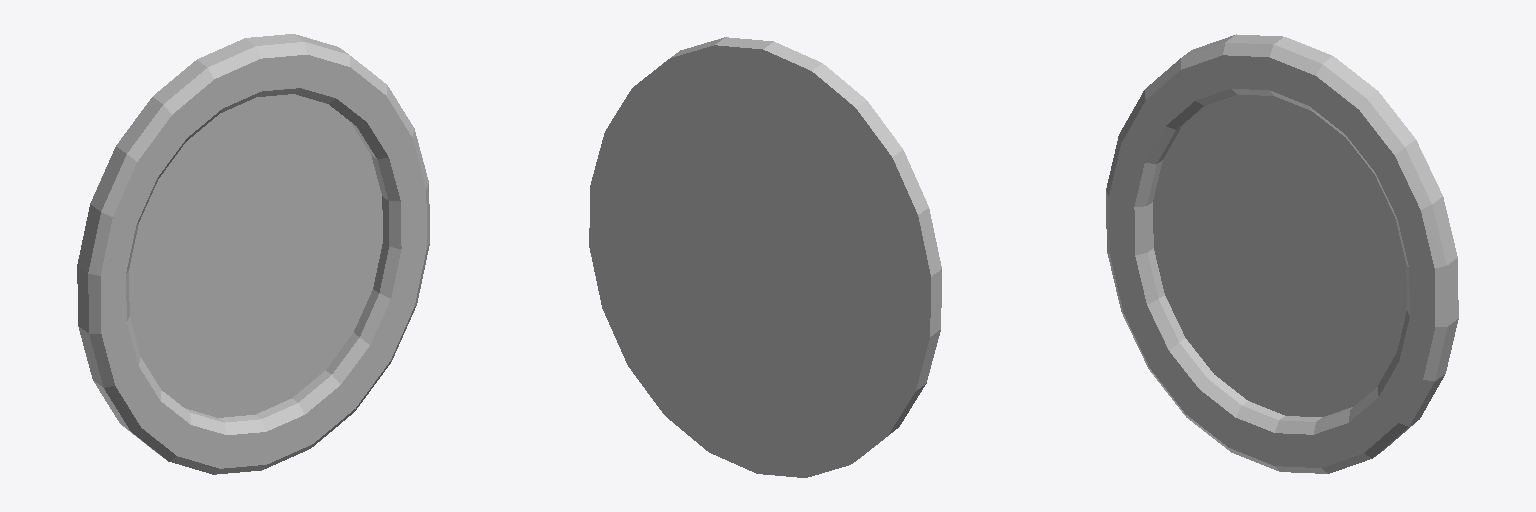
Rendered from mirror.obj.
The picture shows the model from 3 angles: view 1: azimuth 30°, elevation 25°; view 2: azimuth 150°, elevation 25°; view 3: azimuth 330°, elevation 25°; orthographic projection.
Parts seen in each view (by area): view 1: mirror; view 2: mirror; view 3: mirror.
Boxes of the visible parts, box(x1,y1,x2,y2) form: mirror: box(77, 34, 429, 474); mirror: box(589, 37, 941, 477); mirror: box(1106, 34, 1458, 473).
Bounding box in the file's own units: 1.26 × 1.5 × 0.1.